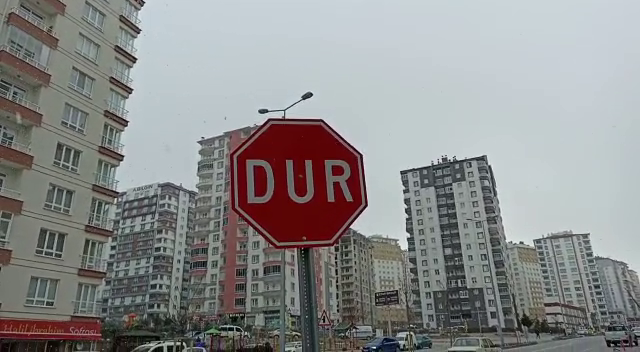stop: (226, 115, 373, 253)
